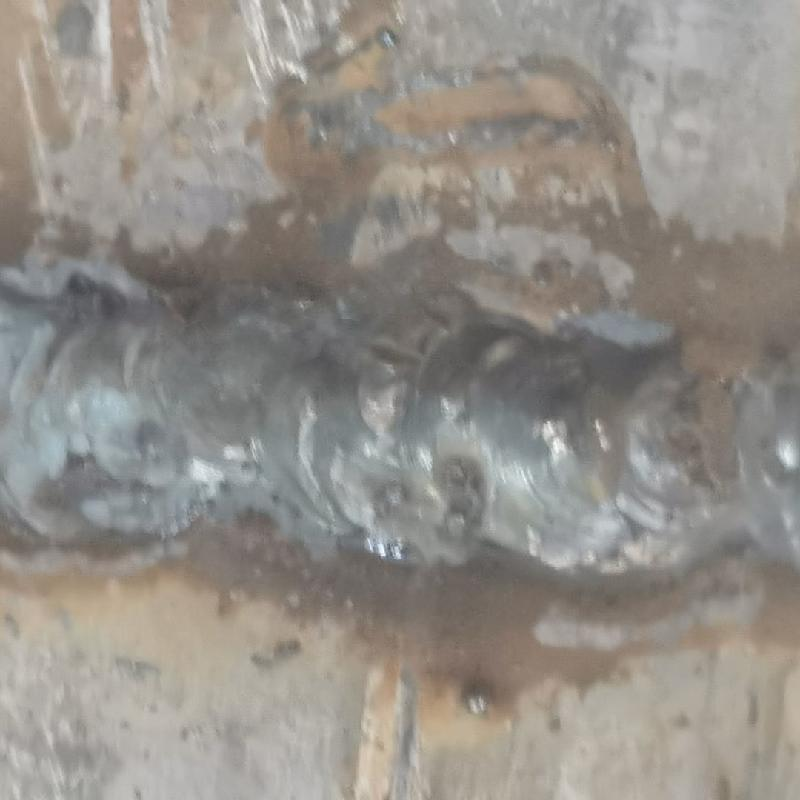good: (2, 263, 799, 609)
